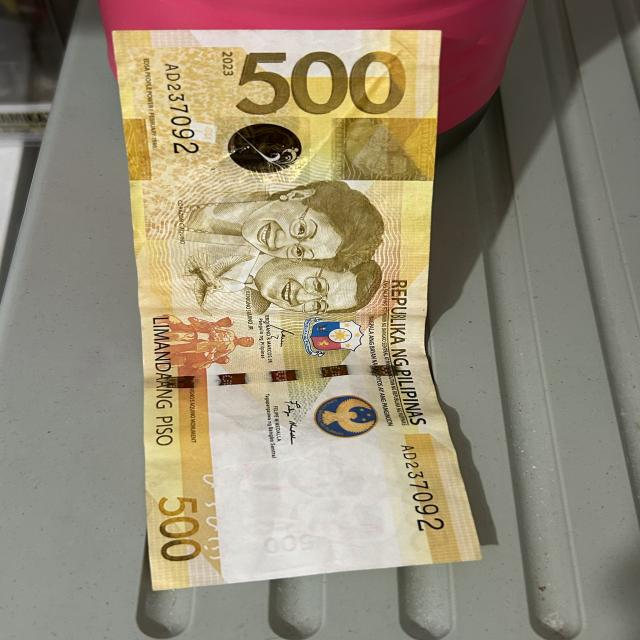concealed_value: (339, 121, 434, 179)
optically_variable_device: (227, 122, 300, 172)
security_thread: (154, 360, 413, 387)
see_through_mark: (205, 472, 238, 561)
value: (231, 47, 400, 114)
value_watermark: (261, 530, 323, 556)
watermark: (243, 444, 391, 558)
